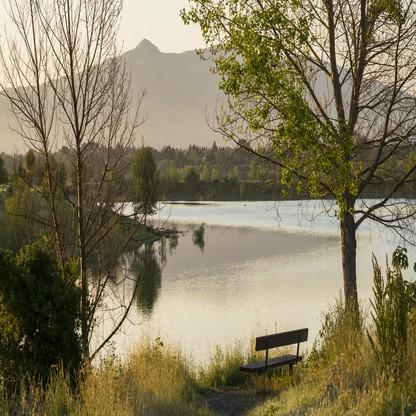obstacle: (223, 325, 334, 385)
